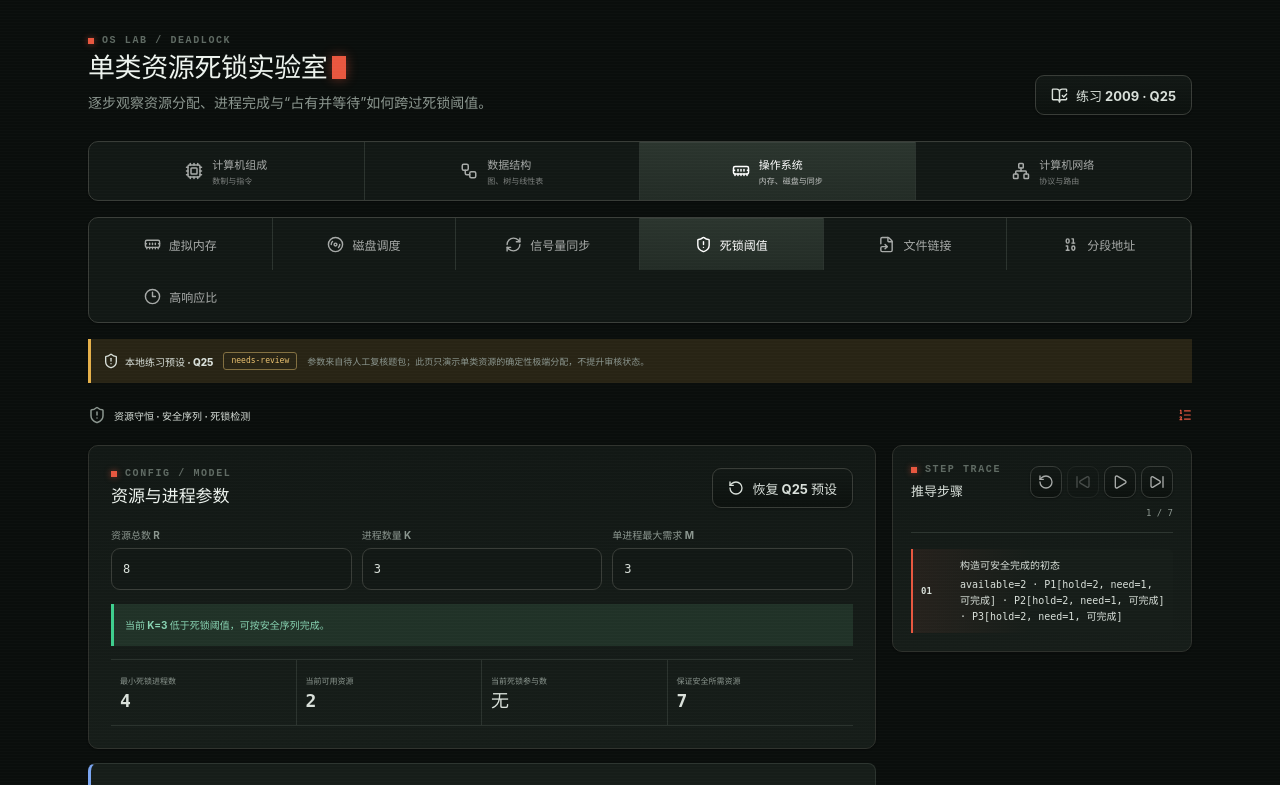
it: SingleResourceDeadlockLabPage › restores a safe K = 3 URL and advances its completion trace
The image size is (1280, 785).
Expected: the field labelled "资源总数 R" holds "8", [111,548,352,590]
Expected: the field labelled "进程数量 K" holds "3", [362,548,602,590]
Click the button named "下一步": (1157, 482) [1141,466,1173,498]
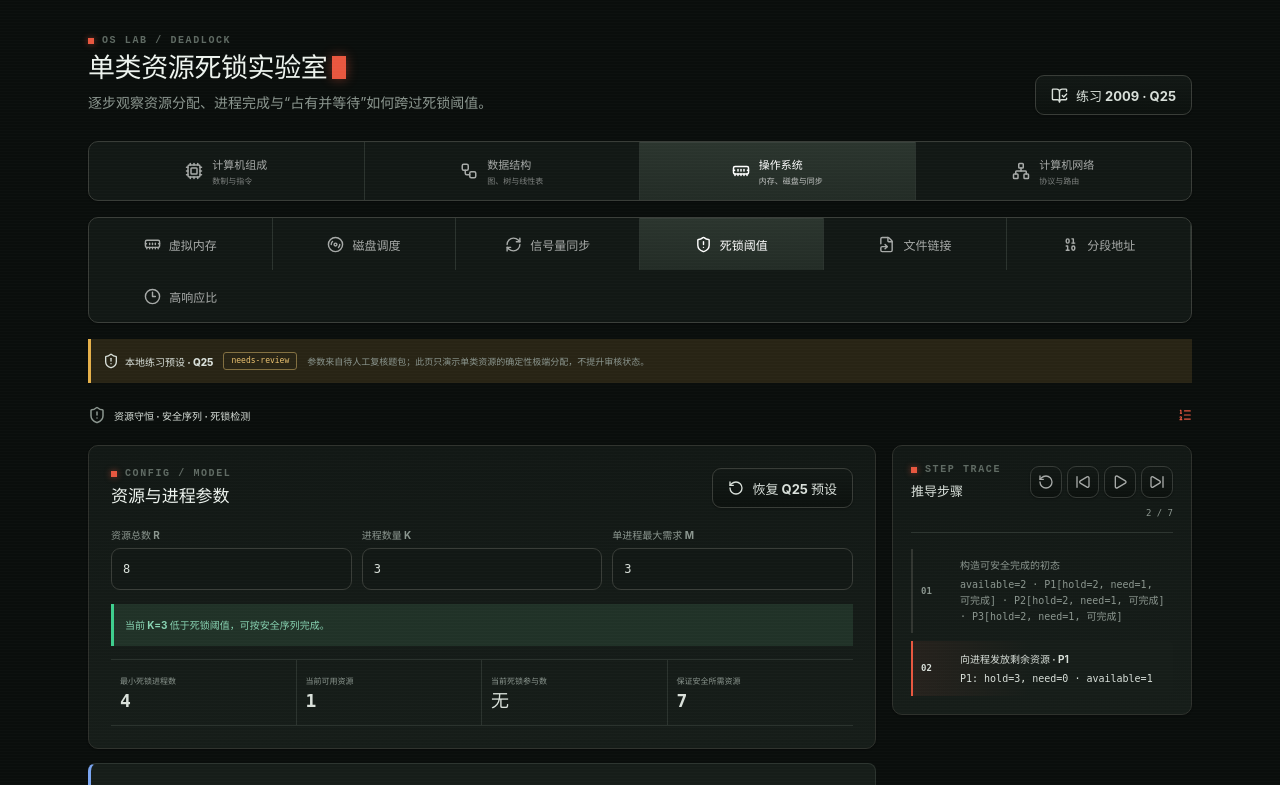
Result: the number of list items is 2 at [911,550,1173,634]; [911,642,1173,696]
